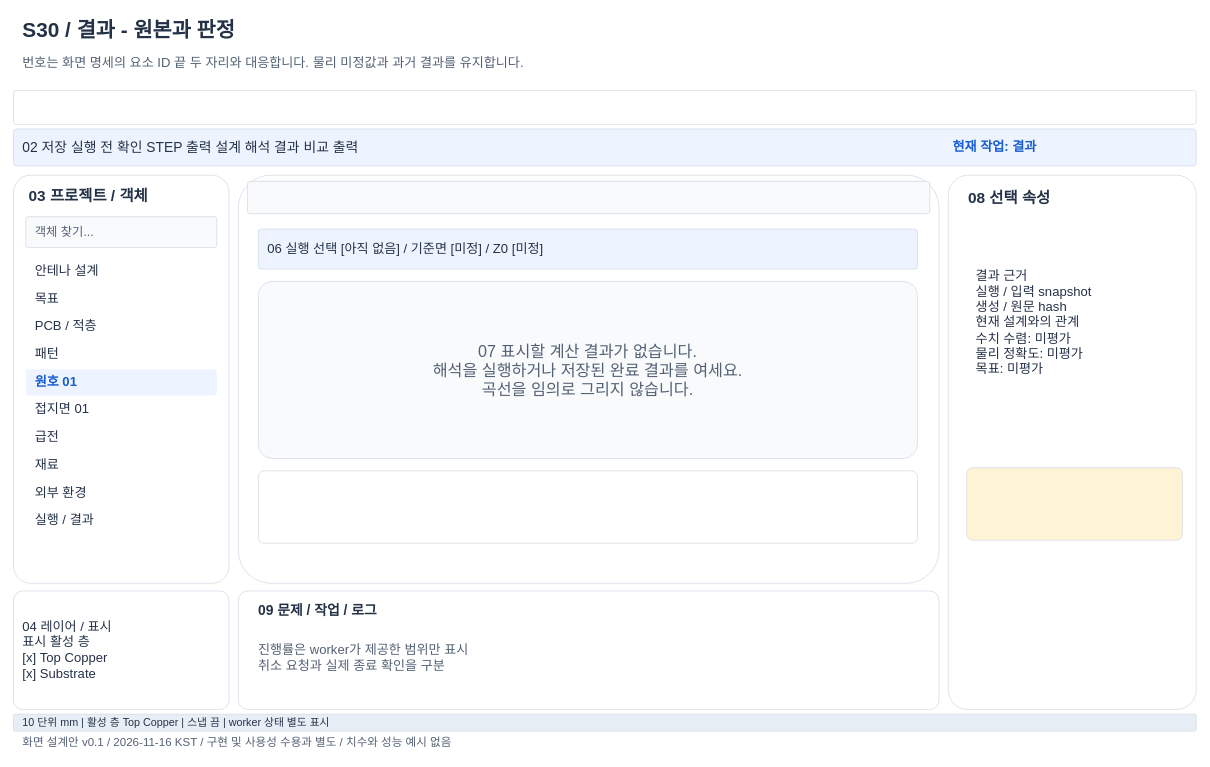
This 1210x767 diagram has some shape labels left out. The centre of each missing label's shape, as x and y in pixels:
"01 TraceWave Studio / 안테나 설계 / 저장 필요" belongs at pixel 604 107.
"05 네트워크 | 전력 / 손실 | 방사 / 필드" belongs at pixel 588 197.
"3D 형상과 3D 방사는 서로 다른 보기입니다. 미지원 결과는 사유 표시" belongs at pixel 1074 503.
"수치 표 / 주파수 / 실수 / 허수 / 단위 / 유효 상태 결과가 선택되면 실제 표본을 조회합니다." belongs at pixel 587 506.
